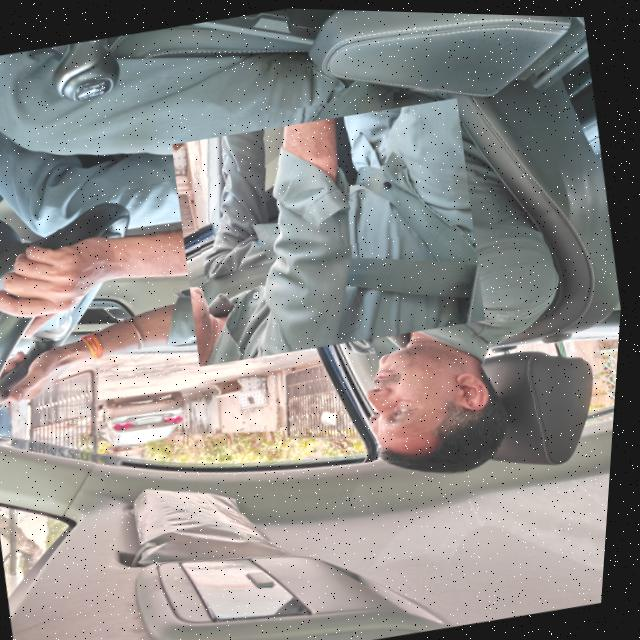seatbelt: (174, 76, 490, 384)
